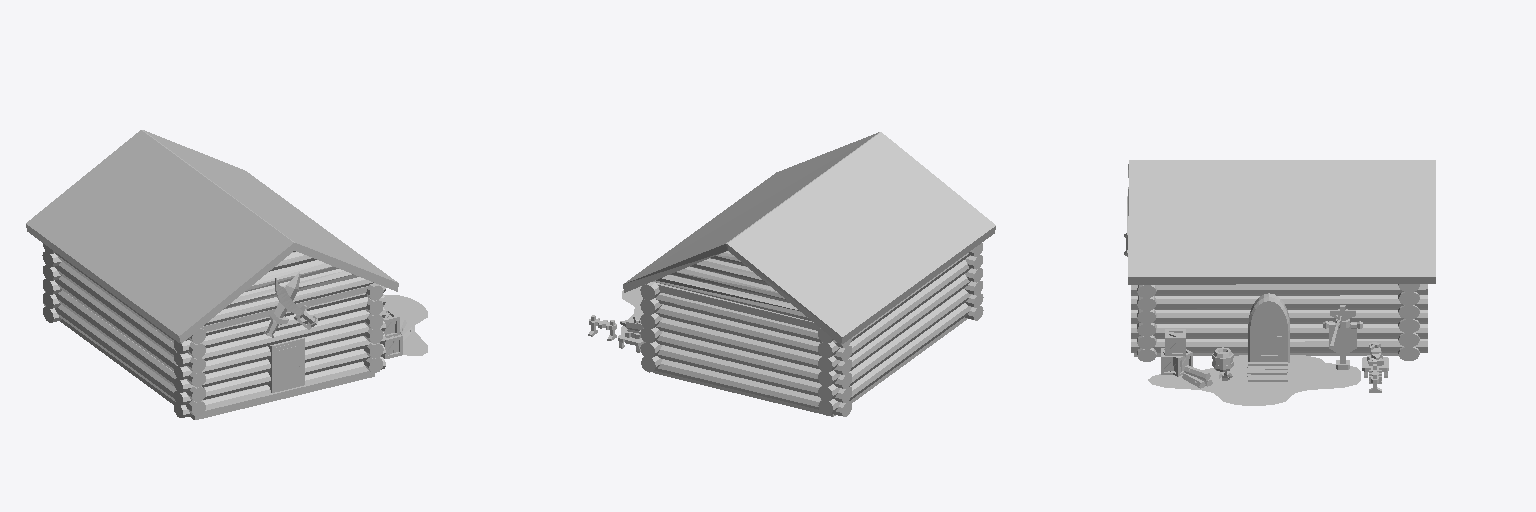
Rendered from Sandatahang Lakas-Lv1_remake(WOOD).obj.
3 views of the same model, side by side, from view 1: azimuth 30°, elevation 25°; view 2: azimuth 150°, elevation 25°; view 3: azimuth 270°, elevation 25° (orthographic).
Visible parts, largest first — view 1: Cylinder, patch-grass, sword_scimitar.001, sword.001; view 2: Cylinder, workbench-anvil; view 3: Cylinder, patch-grass, door-rotate-large, banner, path_wood, crate.002, workbench-anvil.
Part boxes in pixels (left/top/right/bottom): Cylinder: left=26, top=130, right=398, bottom=419; patch-grass: left=384, top=295, right=427, bottom=355; sword_scimitar.001: left=275, top=278, right=317, bottom=329; sword.001: left=264, top=272, right=299, bottom=337; Cylinder: left=623, top=132, right=995, bottom=416; workbench-anvil: left=618, top=316, right=643, bottom=352; Cylinder: left=1128, top=160, right=1435, bottom=361; patch-grass: left=1148, top=355, right=1360, bottom=405; door-rotate-large: left=1248, top=293, right=1289, bottom=362; banner: left=1323, top=305, right=1362, bottom=369; path_wood: left=1247, top=362, right=1287, bottom=381; crate.002: left=1165, top=329, right=1185, bottom=356; workbench-anvil: left=1362, top=342, right=1388, bottom=377.
Bounding box in the file's own units: 8.34 × 4.09 × 7.38.